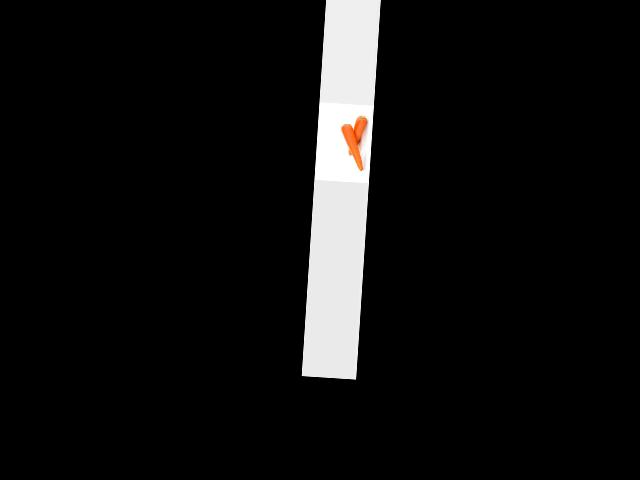carrot: (346, 112, 368, 160)
